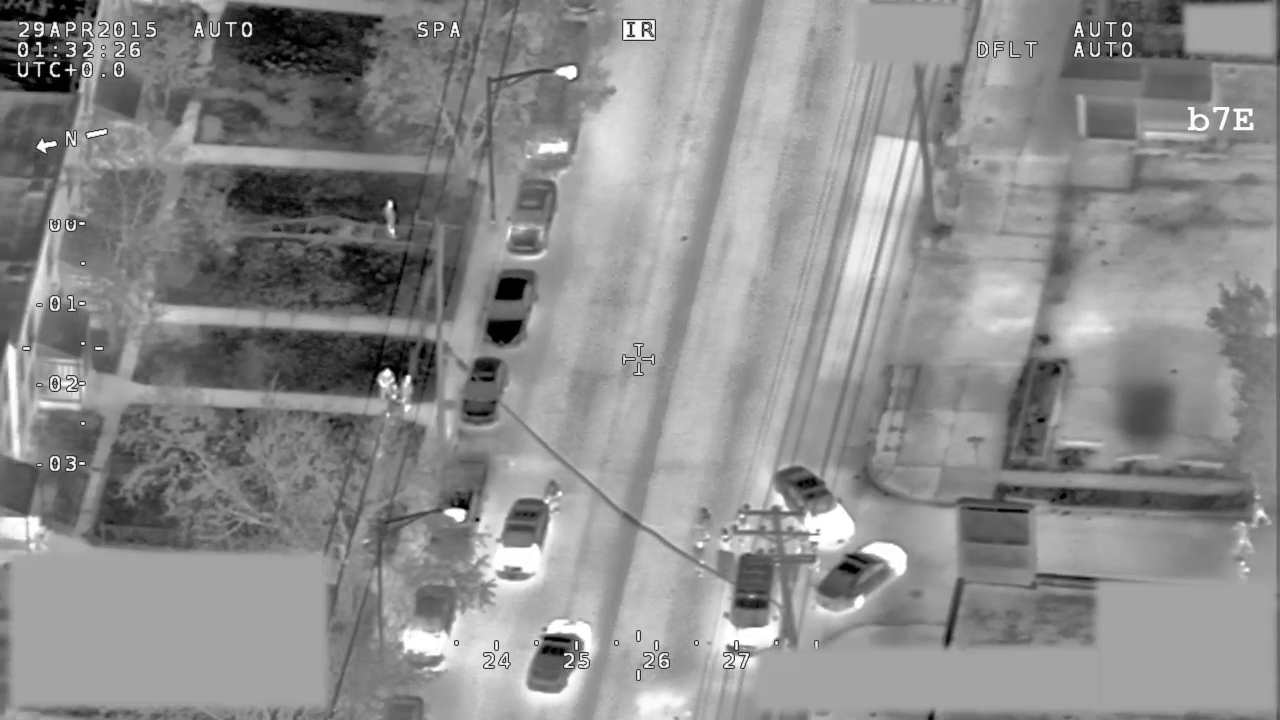vehicle: (525, 18, 598, 166), (771, 464, 860, 551), (813, 538, 911, 616), (427, 453, 493, 568), (721, 551, 785, 655), (523, 618, 598, 697), (401, 582, 462, 676), (493, 494, 556, 585), (480, 268, 544, 348), (504, 174, 560, 258), (459, 353, 510, 434), (380, 691, 426, 720)
